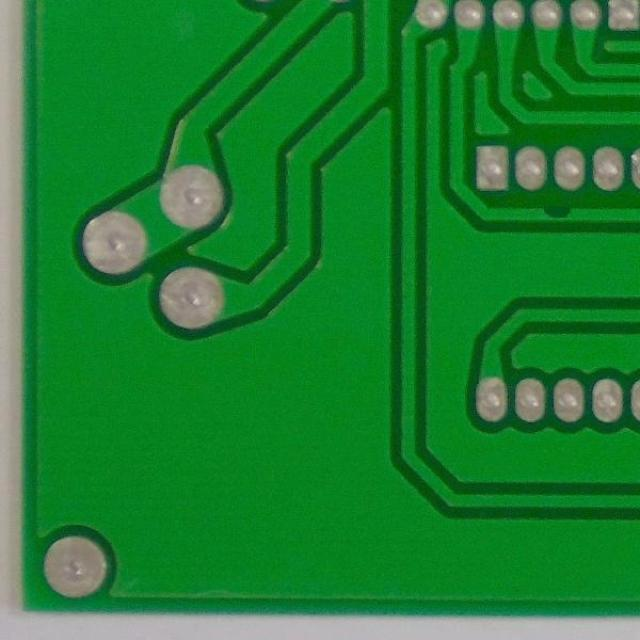mouse_bite: (534, 198, 580, 230)
